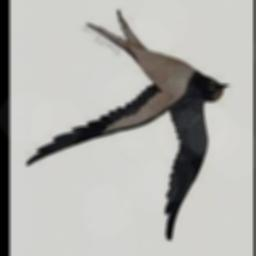Swallow: (26, 12, 230, 241)
